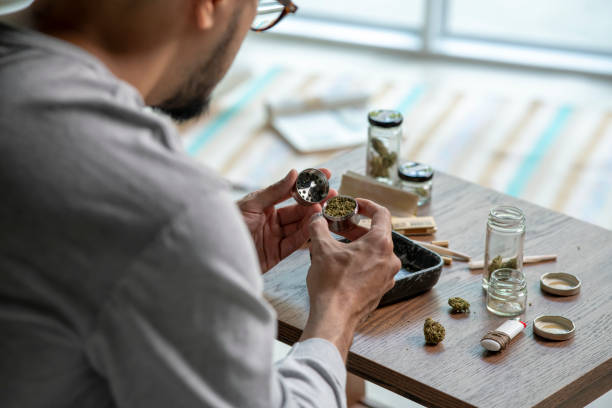cigarette: (410, 238, 470, 268), (467, 255, 558, 270)
